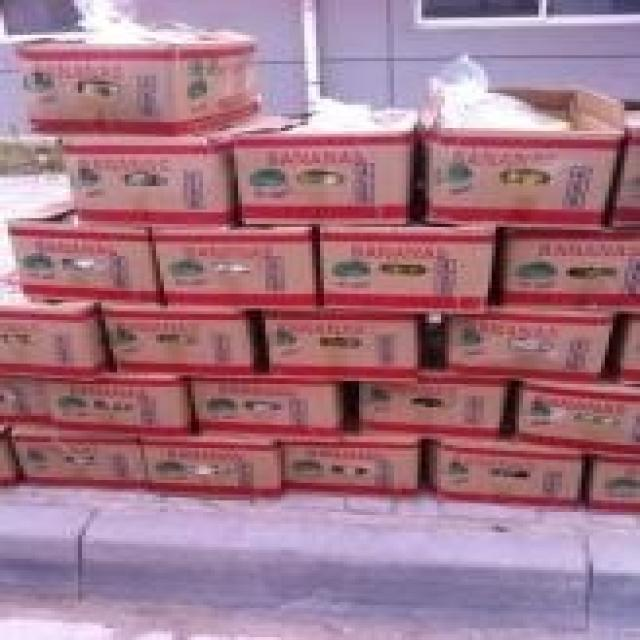box: (421, 52, 628, 224), (4, 23, 258, 140), (62, 111, 300, 224), (230, 108, 421, 227), (316, 224, 496, 314), (12, 201, 164, 305), (148, 227, 324, 308), (445, 311, 632, 384), (359, 352, 515, 439), (488, 224, 636, 311), (98, 300, 269, 375), (421, 433, 585, 506), (258, 308, 425, 378), (187, 375, 359, 436), (137, 431, 289, 500), (0, 285, 117, 372), (31, 375, 203, 433), (281, 431, 433, 495), (511, 381, 640, 454), (12, 428, 148, 489), (578, 448, 640, 515), (0, 372, 51, 428), (620, 311, 636, 384)
